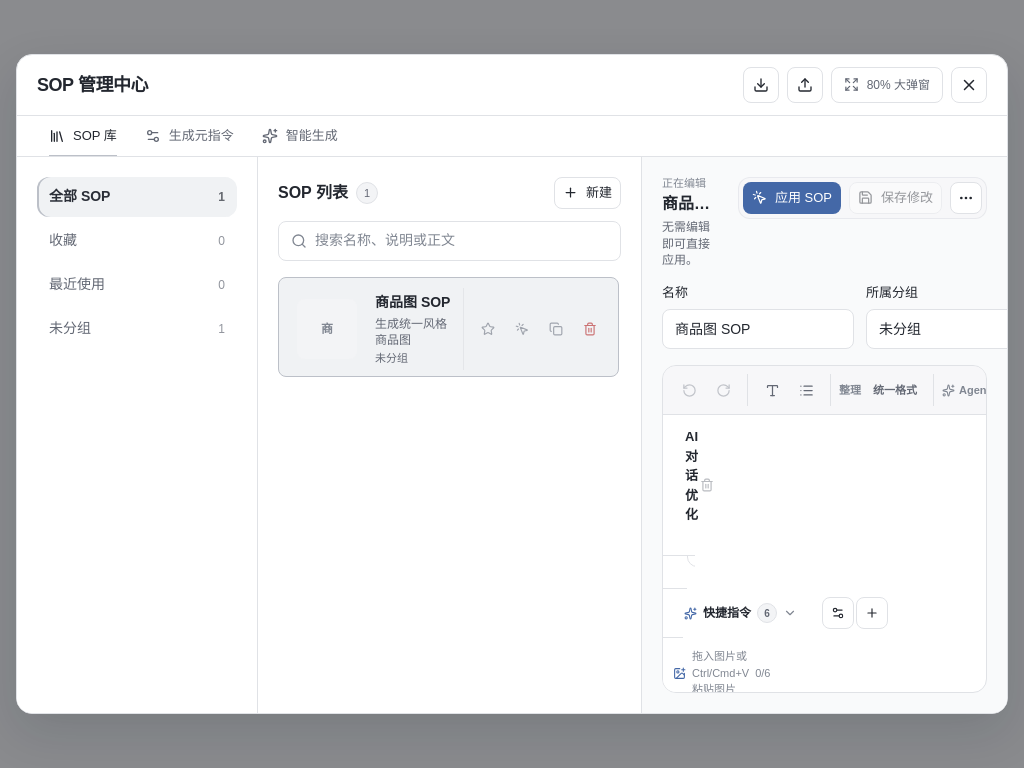
Test: SopManagementCenter apply and save actions › shows regenerate and edit actions on the generation detail overlay
(page scrolled)
Click the tab "智能生成" at (300, 136), box [250,116,350,156]
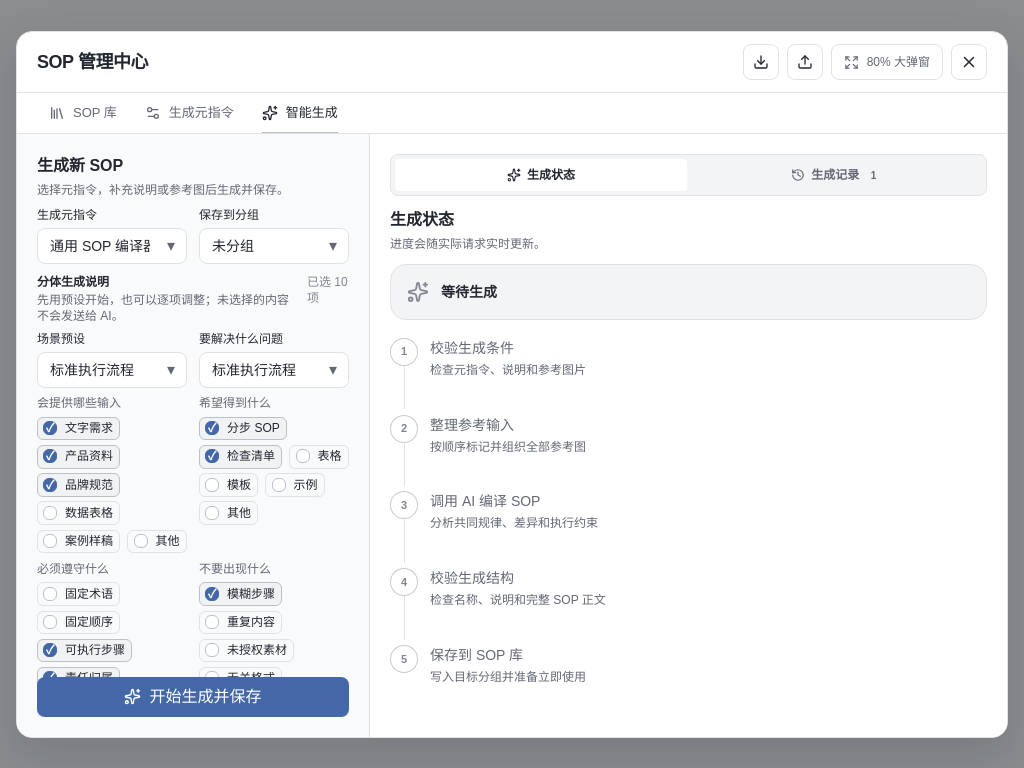
Click the tab "生成记录 1" at (836, 175), box [690,159,982,191]
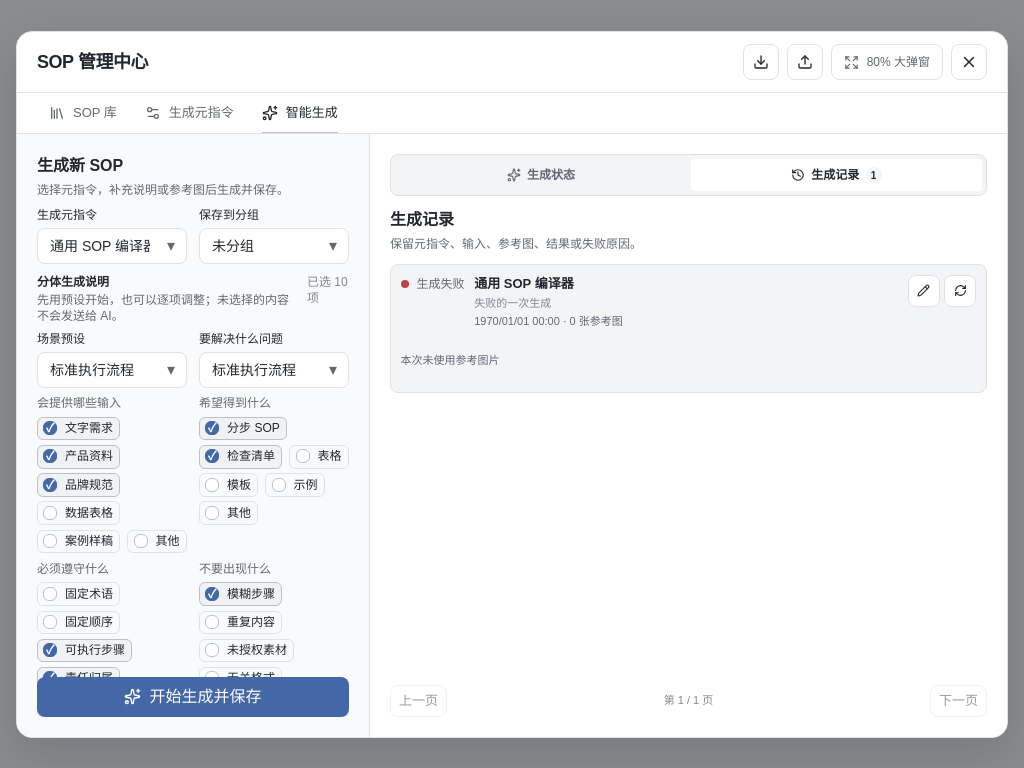
Click the button "生成失败 通用 SOP 编译器 失败的一次生成 1970/01/01 00:00 · 0 张参考图" at (441, 283), box [401,274,900,330]
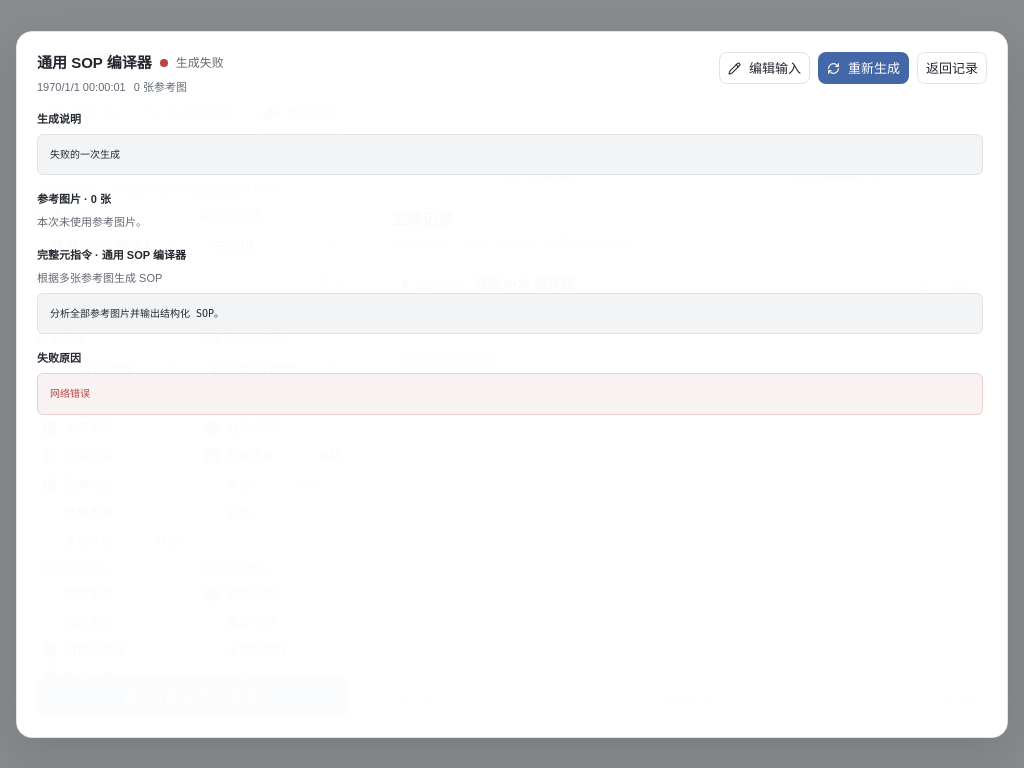
Check: the element named "生成记录详情 通用 SOP 编译器" is shown
Check: the button "编辑输入" is shown
Check: the button "重新生成" is shown, box [818,52,909,84]
Click the button "编辑输入" at (764, 68), box [719,52,810,84]
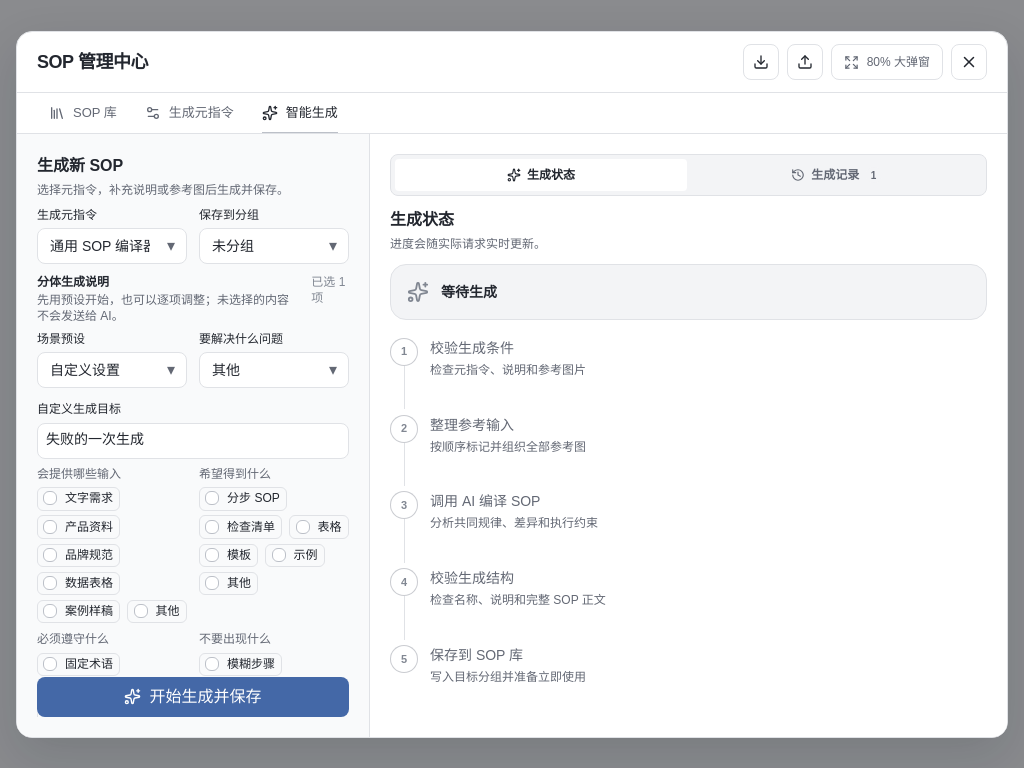
Check: the element showing "要解决什么问题 ▾" holds "其他", box [199,332,349,388]
Check: the element showing "自定义生成目标" holds "失败的一次生成", box [37,402,349,458]
